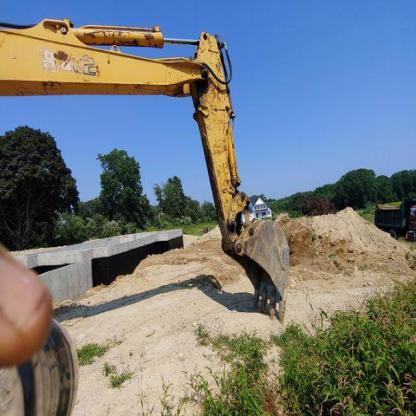excavator: (0, 13, 309, 326)
